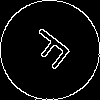F: (25, 25, 80, 78)
